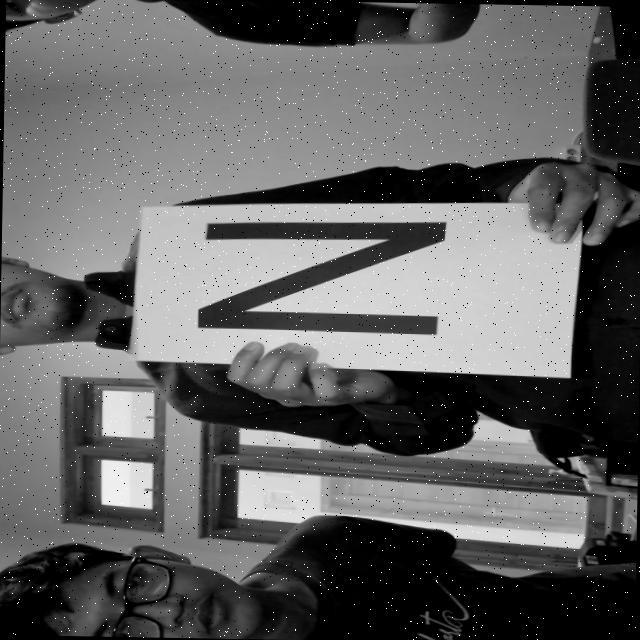n: (169, 206, 467, 344)
